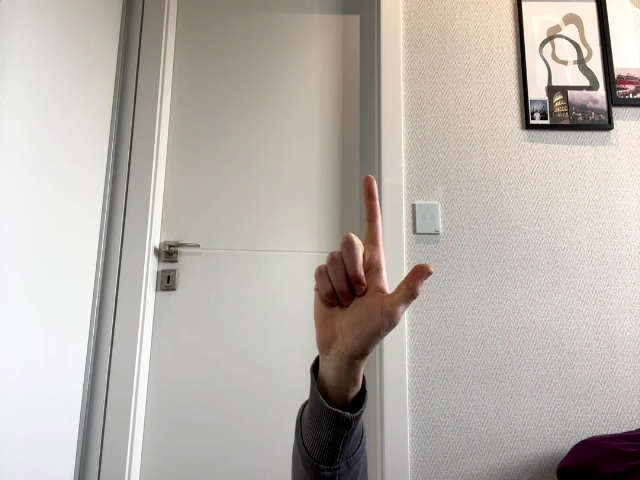L: (313, 174, 434, 380)
